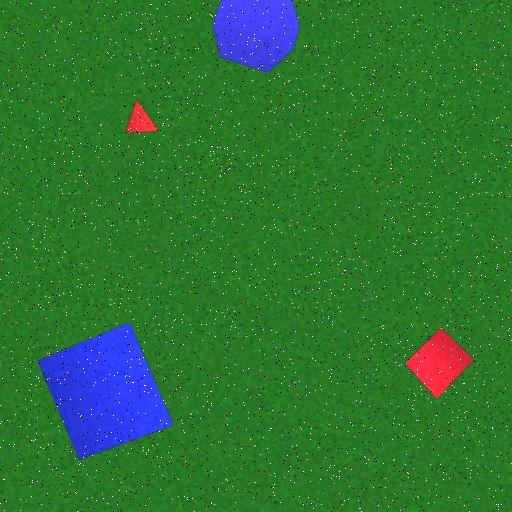BLUE_SQUARE: (37, 322, 174, 460)
RED_SQUARE: (405, 327, 474, 400)
